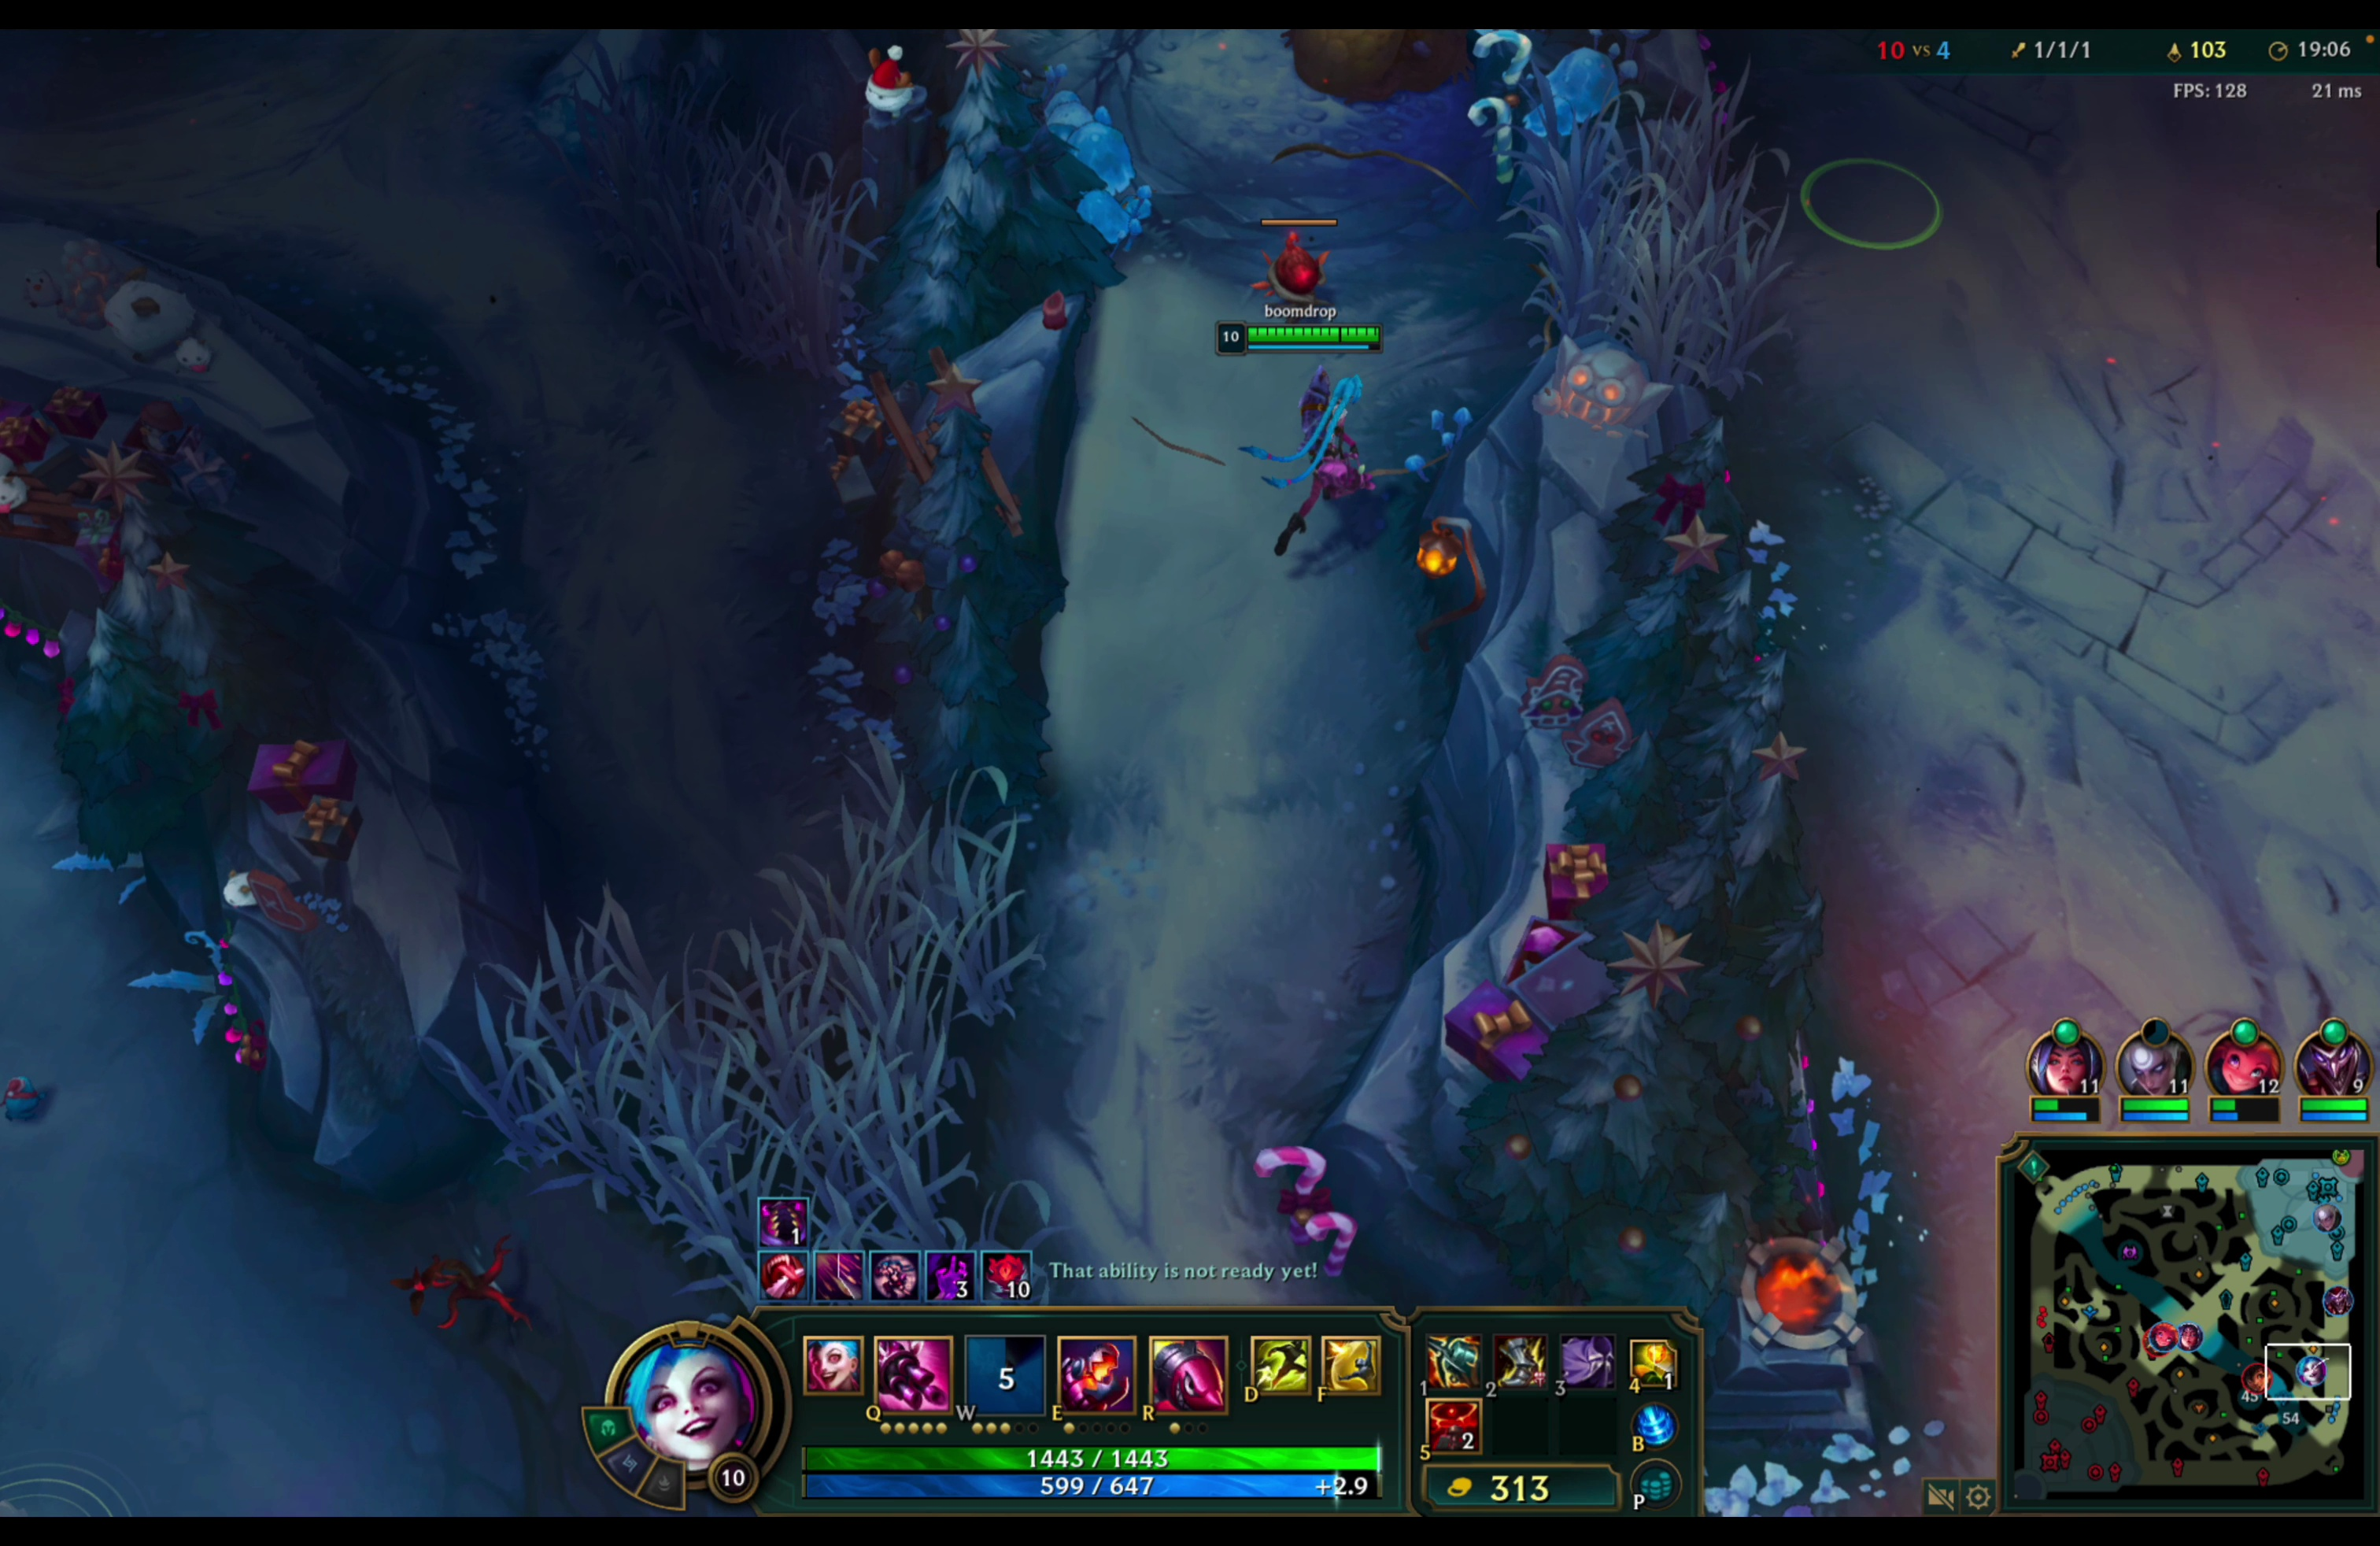JINX_W_PROJECTILE: (222, 1315, 491, 1518)
